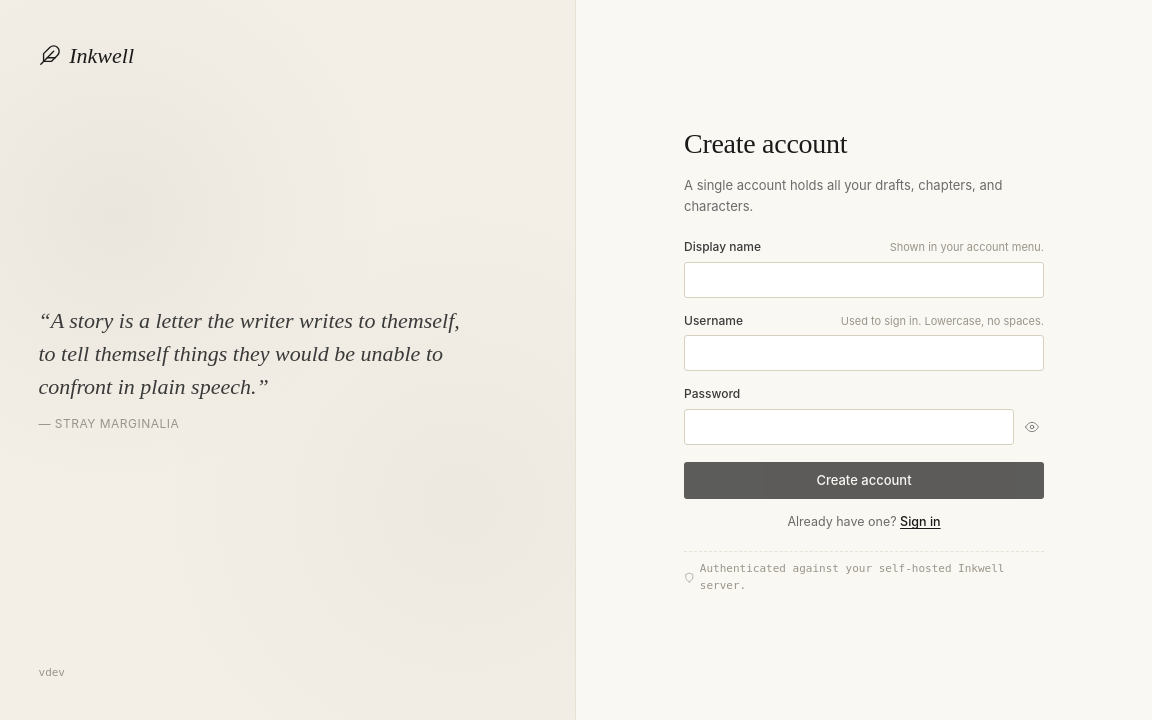
Test: auth pages (F4) › register: 409 shows the friendly "Username is already taken" message (not server message)
Check: the heading "Create account" is shown, box [684,128,847,159]
Type "bob" into the field labelled "Username Used to sign in. Lowercase, no spaces.". click: (864, 353)
box: [684,335,1044,371]
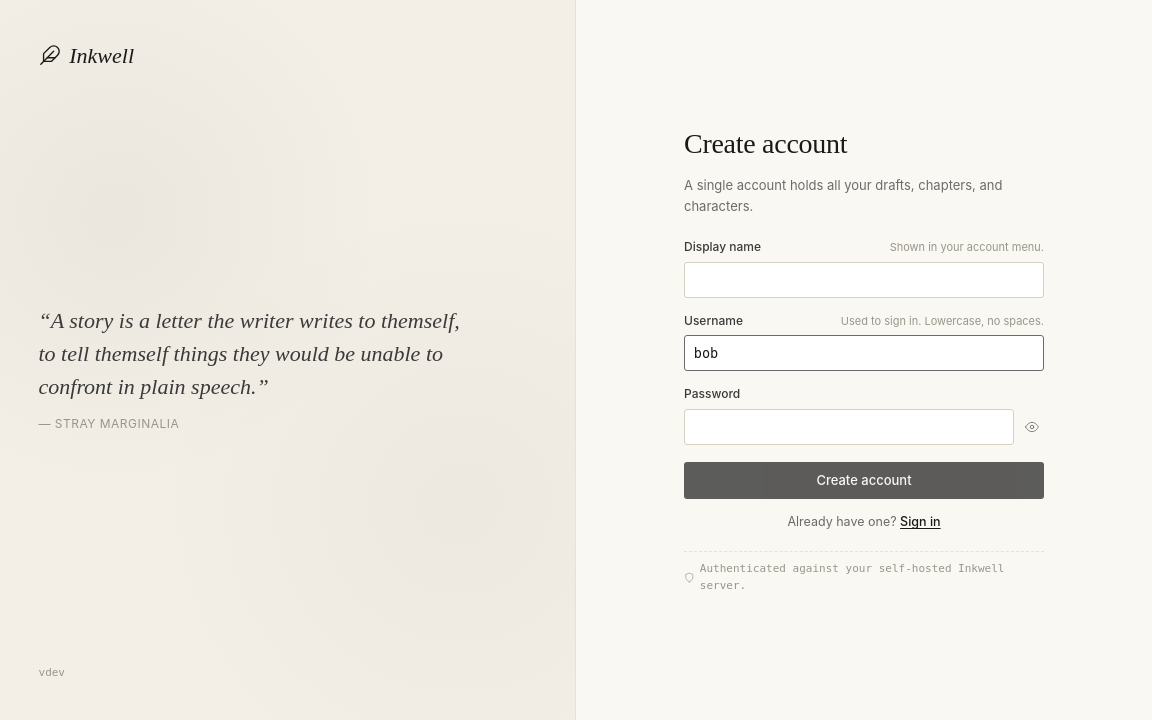
Type "hunter2hunter2" into the password field labelled "Password". click: (849, 427)
box: [684,408,1014,445]
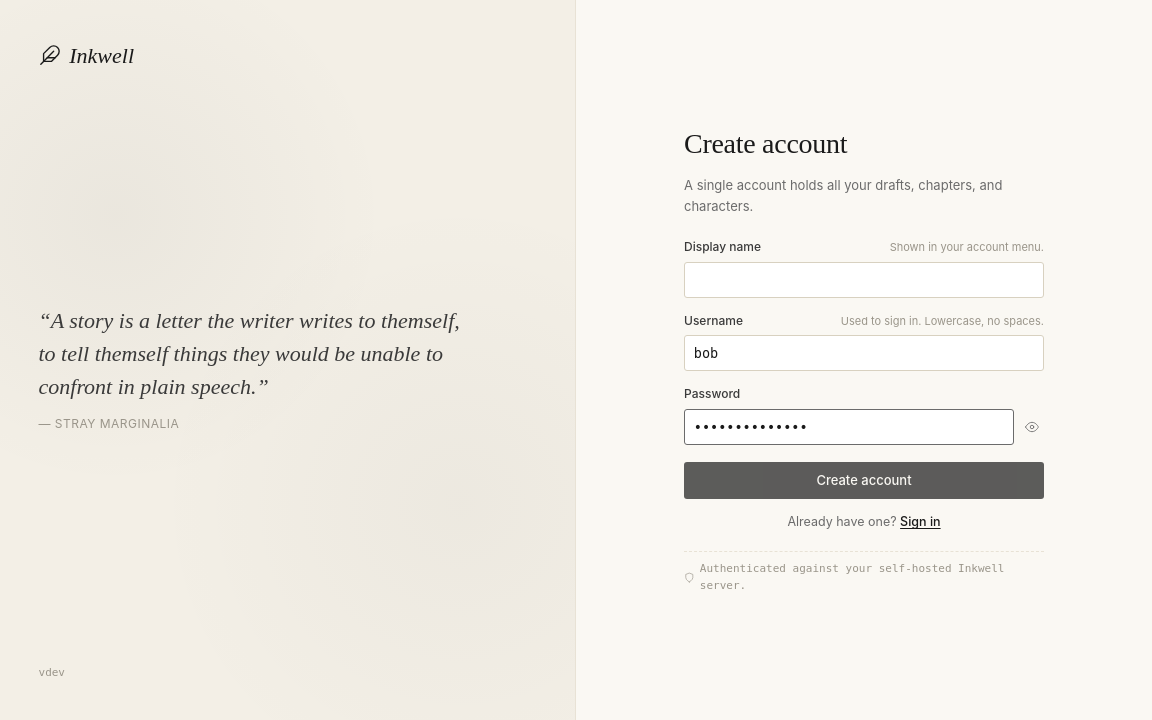
Type "Bob Builder" into the field labelled "Display name Shown in your account menu.". click: (864, 280)
box: [684,262,1044,298]
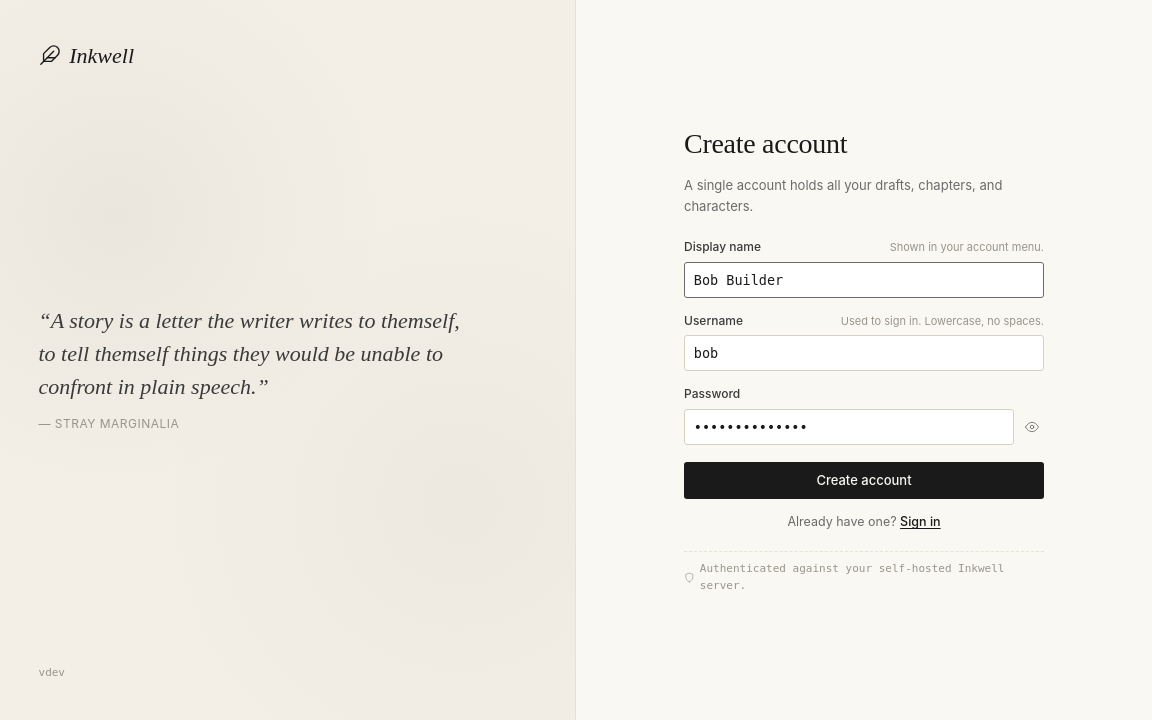
Click the button "Create account". click: (864, 481)
box: [684,462,1044,499]
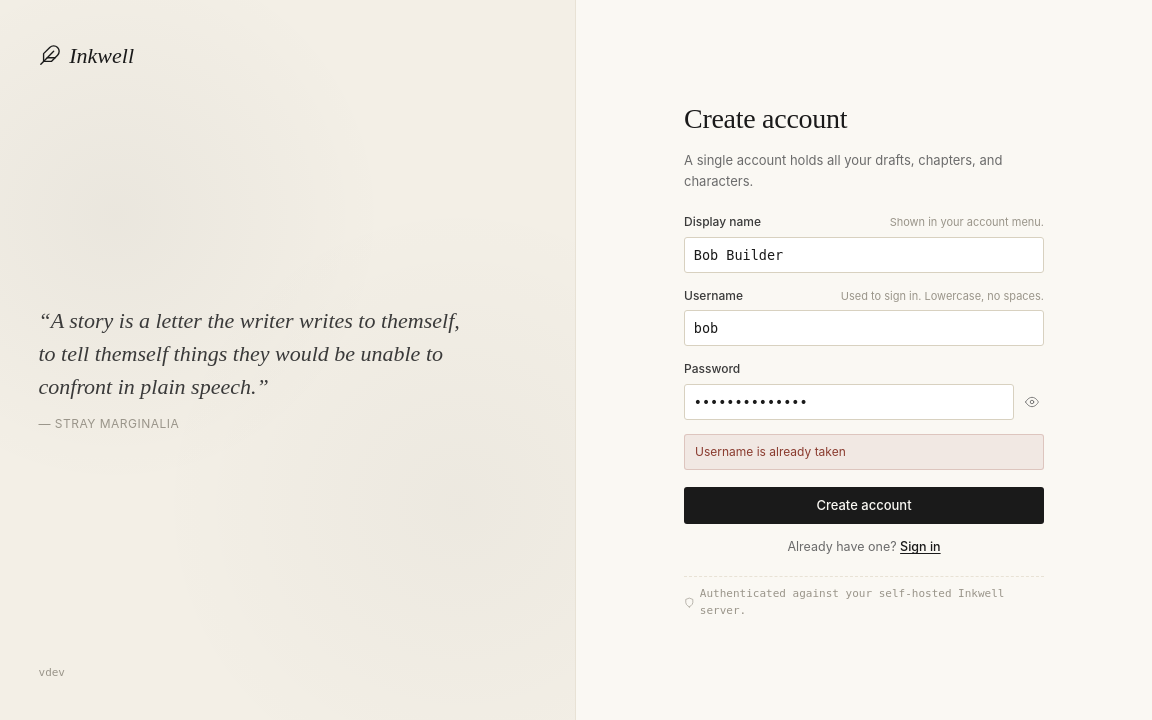
Check: the heading "Create account" is shown, box [684,103,847,134]
Check: the message reads "Username is already taken", box [695,444,846,459]
